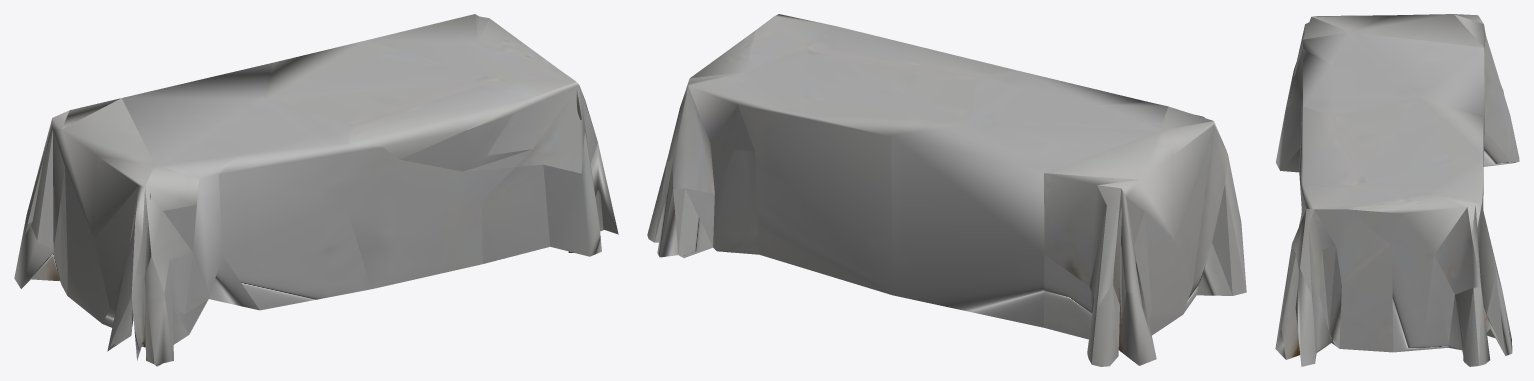
Rendered from meja_putih_lod2.glb.
3 renders of one model, left to right at view 1: azimuth 30°, elevation 25°; view 2: azimuth 150°, elevation 25°; view 3: azimuth 270°, elevation 25°, orthographic. The views are drawn at different scales.
Visible parts, largest first — view 1: tripo_node_638c48be-5da9-4c48-8f56-d0a9e5f3af4c; view 2: tripo_node_638c48be-5da9-4c48-8f56-d0a9e5f3af4c; view 3: tripo_node_638c48be-5da9-4c48-8f56-d0a9e5f3af4c.
Part boxes in pixels (x1,y1,x2,y2): tripo_node_638c48be-5da9-4c48-8f56-d0a9e5f3af4c: (14, 14, 618, 366); tripo_node_638c48be-5da9-4c48-8f56-d0a9e5f3af4c: (647, 14, 1246, 366); tripo_node_638c48be-5da9-4c48-8f56-d0a9e5f3af4c: (1275, 14, 1519, 366).
Size of the model in its own units: 0.9931 by 0.3172 by 0.4609.
1 material, 1 textured.
